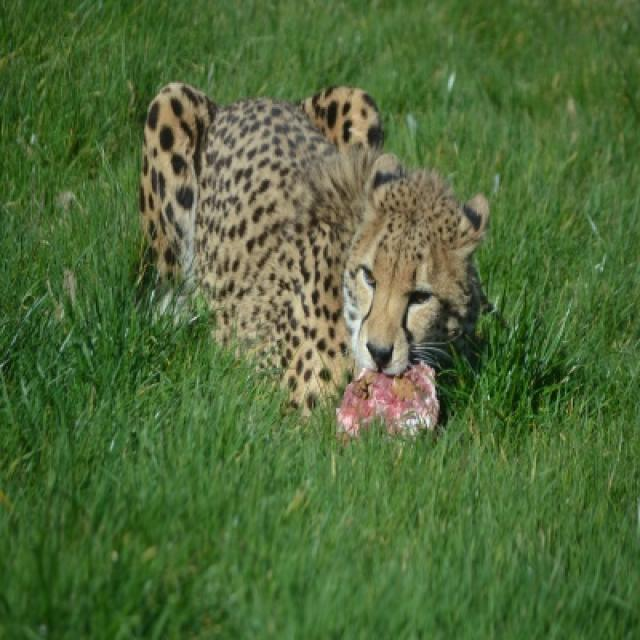Cheetah: (132, 86, 488, 426)
